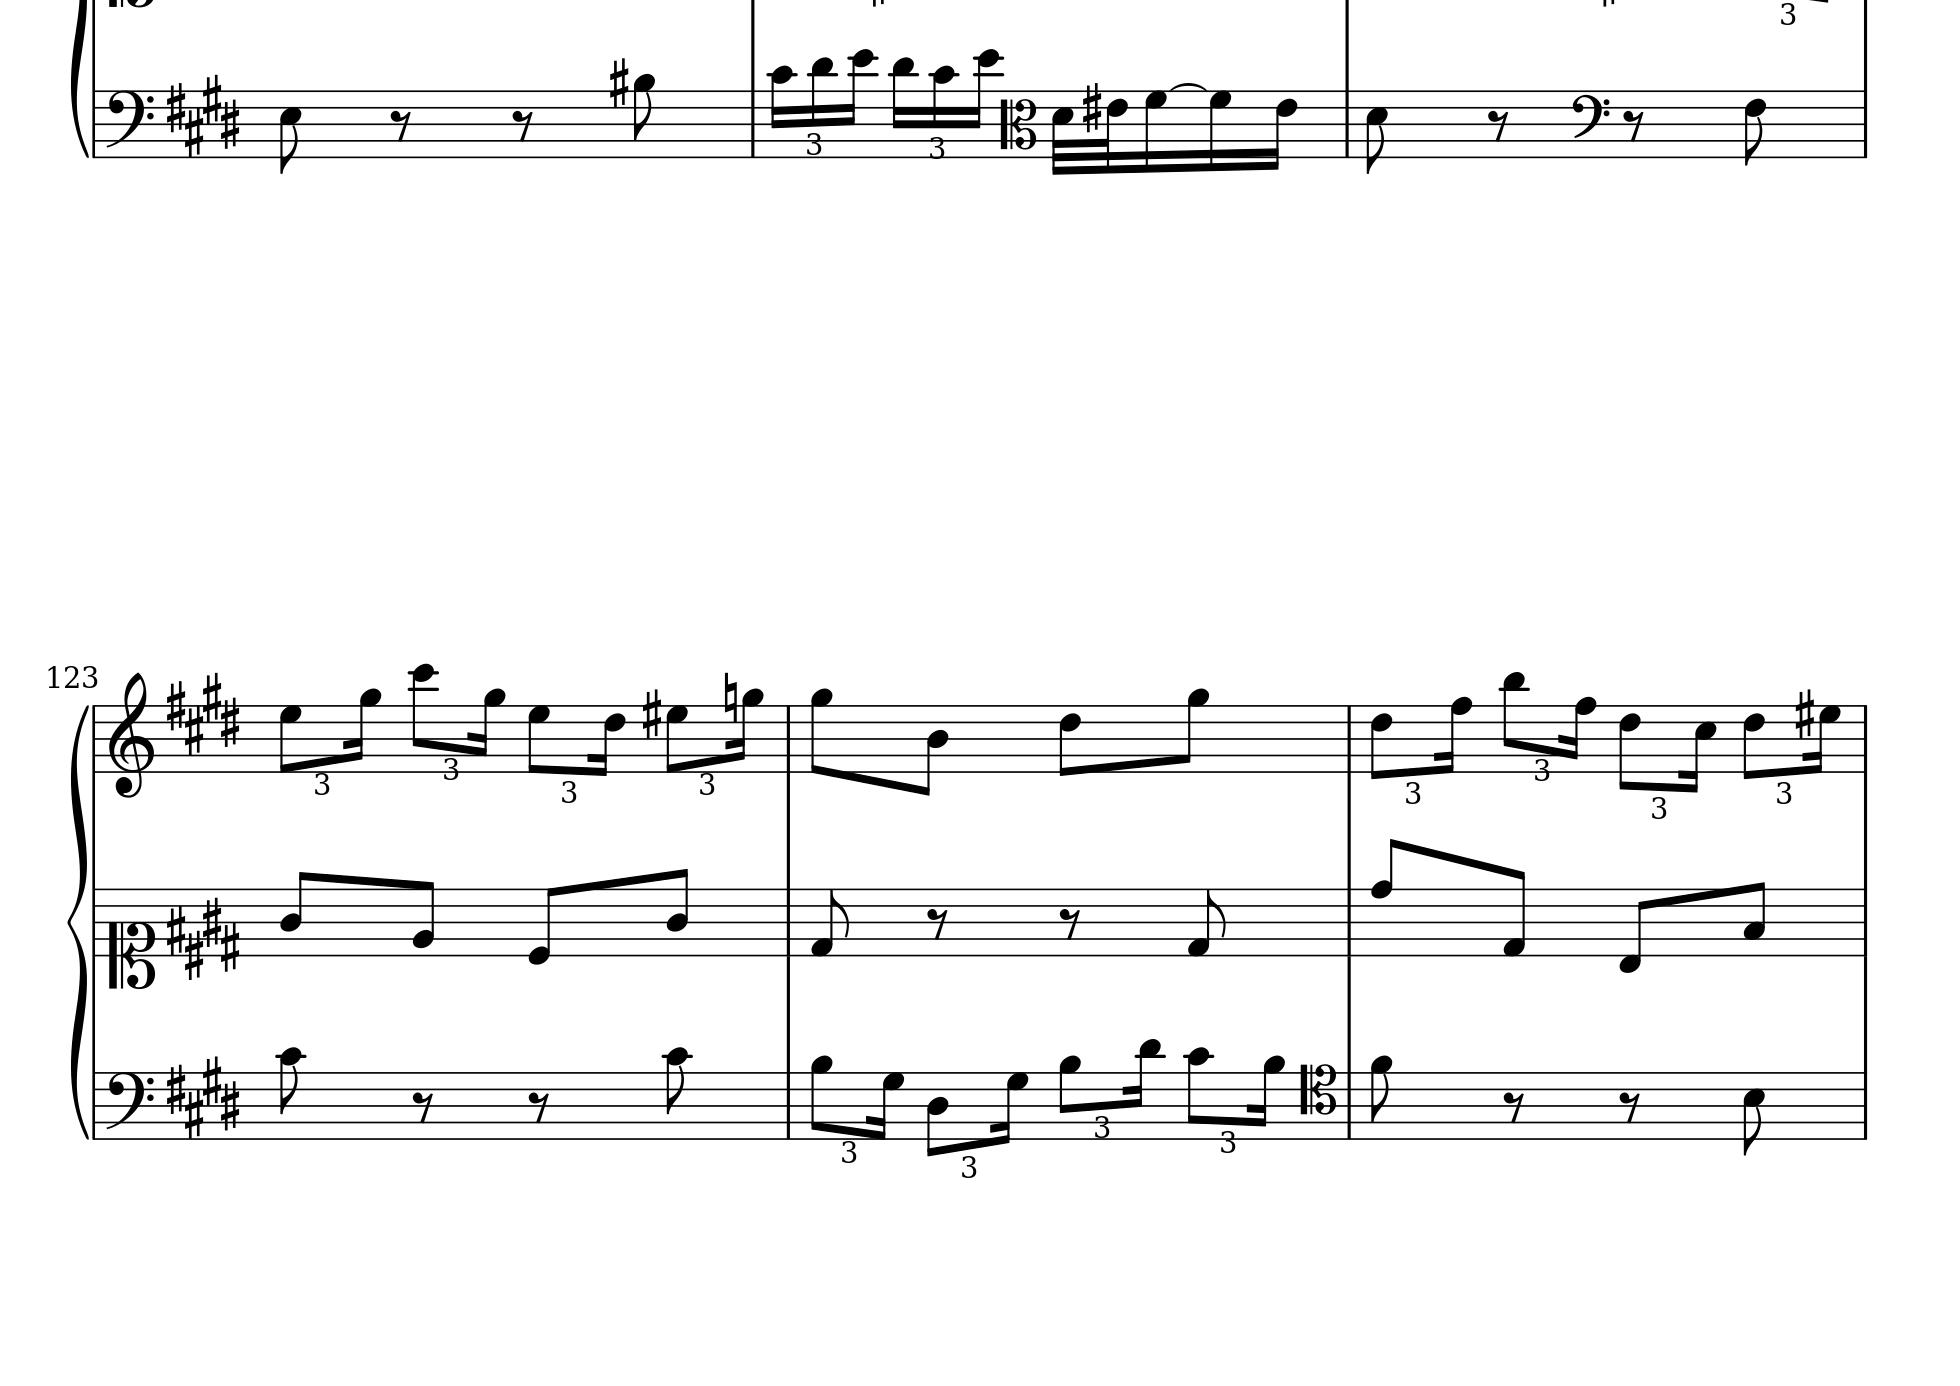1: (46, 663, 60, 690)
16_10: (928, 63, 955, 160), (766, 63, 793, 159)
16_11: (1125, 1036, 1162, 1141), (805, 54, 834, 159), (888, 55, 915, 159)
16_12: (841, 46, 876, 160), (967, 46, 1002, 157)
16_5: (1680, 703, 1716, 793)
16_6: (588, 702, 625, 778), (1266, 87, 1299, 171)
16_7: (990, 1069, 1029, 1146), (865, 1069, 904, 1141), (1804, 703, 1840, 775), (1206, 85, 1231, 174), (1143, 85, 1167, 175)
16_8: (1434, 694, 1473, 775), (1560, 694, 1596, 772)
16_9: (343, 685, 381, 772), (469, 685, 505, 774), (727, 685, 763, 774), (1248, 1051, 1284, 1140)
2: (61, 664, 79, 690)
3: (958, 1153, 981, 1180), (838, 1138, 859, 1165), (804, 130, 823, 157), (79, 663, 99, 690), (927, 135, 946, 160), (1092, 1114, 1111, 1140), (1404, 778, 1422, 805), (441, 757, 460, 781), (312, 772, 331, 796), (1218, 1129, 1237, 1153), (1779, 1, 1797, 27), (559, 778, 577, 804), (1650, 795, 1668, 820), (1533, 757, 1551, 781), (697, 772, 715, 796), (1774, 781, 1792, 805)
32_5: (1050, 88, 1075, 177)
32_6: (1102, 85, 1128, 175)
8_-1: (1617, 886, 1650, 973)
8_0: (526, 883, 559, 966)
8_1: (808, 886, 850, 957), (1185, 886, 1227, 957), (1500, 865, 1527, 958)
8_10: (661, 1045, 691, 1141), (276, 1045, 304, 1141), (1185, 1045, 1212, 1140)
8_11: (1500, 669, 1527, 774)
8_12: (408, 661, 436, 774)
8_2: (409, 877, 435, 957)
8_3: (1741, 879, 1767, 958)
8_4: (916, 703, 949, 796), (277, 868, 310, 957), (664, 865, 690, 958), (924, 1069, 949, 1158)
8_5: (1363, 88, 1389, 175), (1741, 1069, 1767, 1156), (277, 88, 303, 174)
8_6: (1617, 702, 1641, 792), (1368, 702, 1395, 781), (1740, 702, 1765, 781), (1057, 702, 1083, 778), (1743, 88, 1767, 166)
8_7: (277, 702, 303, 774), (664, 702, 688, 774), (526, 703, 550, 774)
8_8: (1368, 835, 1404, 958)
8_9: (1176, 685, 1210, 774), (630, 72, 655, 160), (1056, 1051, 1081, 1140), (807, 1053, 832, 1140), (808, 685, 832, 777), (1368, 1054, 1392, 1141)
Brace: (64, 711, 91, 1140)
Cclef: (999, 88, 1039, 157)
E_S: (163, 894, 243, 981), (163, 72, 243, 157), (163, 1054, 243, 1140), (165, 670, 240, 756)
Fclef: (103, 87, 154, 160), (103, 1069, 154, 1141), (1569, 88, 1609, 157)
Gclef: (106, 670, 154, 798)
Natural: (720, 670, 738, 724)
Rests8: (1500, 1087, 1525, 1123), (510, 106, 534, 142), (1057, 904, 1081, 940), (526, 1087, 550, 1123), (388, 106, 412, 141), (1485, 106, 1509, 141), (925, 904, 949, 939), (409, 1089, 433, 1123), (1617, 1087, 1641, 1122), (1621, 106, 1644, 142)
Sharp: (1080, 79, 1104, 133), (606, 55, 628, 108), (640, 687, 663, 739), (1792, 687, 1815, 739)
Single_barline: (778, 886, 798, 955), (744, 90, 762, 157), (1341, 705, 1359, 772), (1341, 888, 1359, 955), (1857, 1072, 1875, 1138), (1857, 90, 1873, 157), (780, 1071, 796, 1138), (1339, 88, 1356, 154), (1857, 889, 1873, 955), (1341, 1072, 1357, 1138), (88, 888, 103, 957), (781, 705, 796, 772), (1858, 705, 1873, 772), (88, 90, 102, 157), (88, 705, 102, 772), (88, 1072, 102, 1138)
Slur: (1168, 81, 1207, 91)
Soprano_Cclef: (106, 885, 157, 991)
Tensor_Cclef: (1297, 1060, 1338, 1140)
